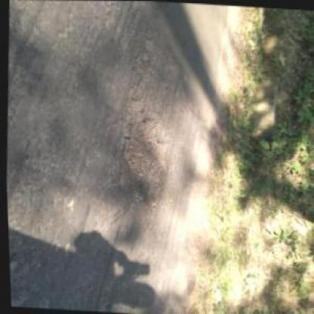Hueco: (110, 92, 172, 190)
